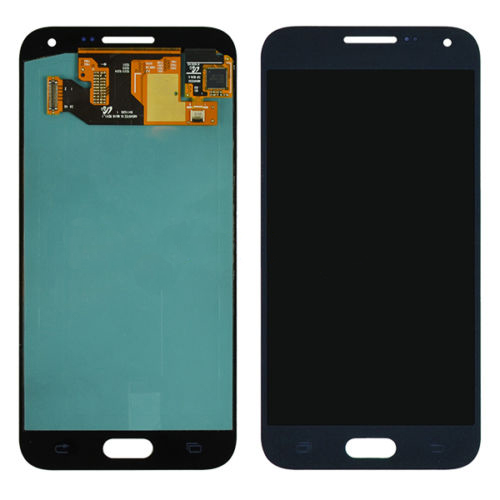Phone: (259, 23, 483, 472), (18, 26, 239, 472)
